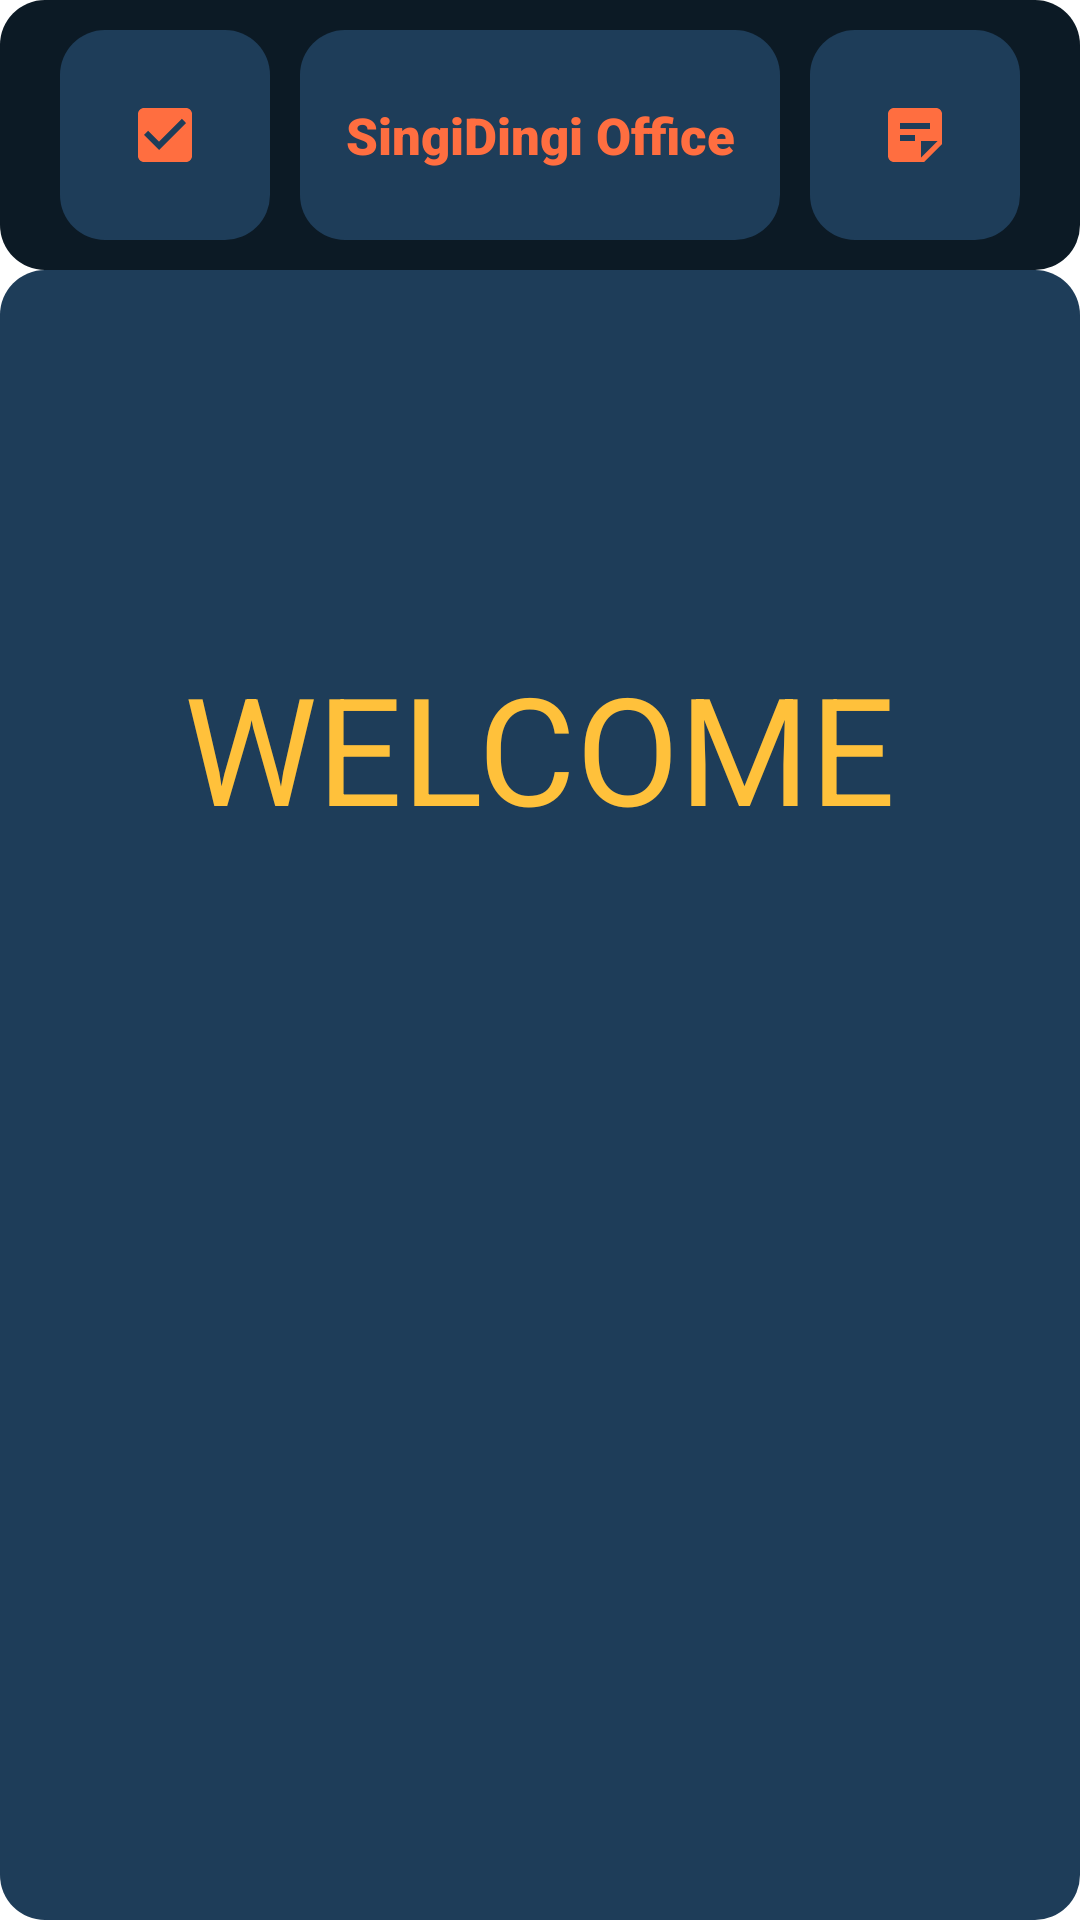

Named icons in this screenshot (1080 x 1920) and their bounding boxes, (x1, y1, x2, y2):
notes: (810, 30, 1020, 240)
todos: (60, 30, 270, 240)
